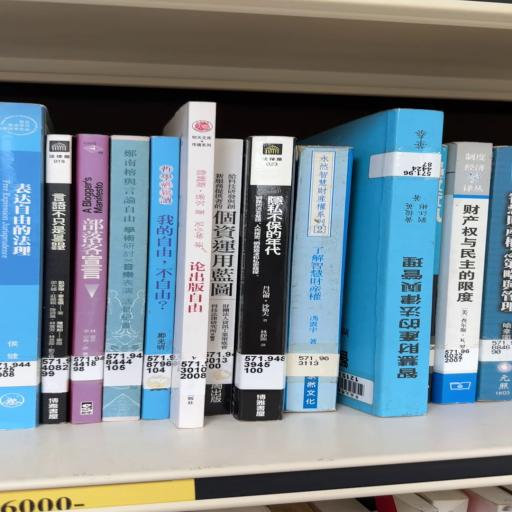reverse: (302, 110, 444, 418)
